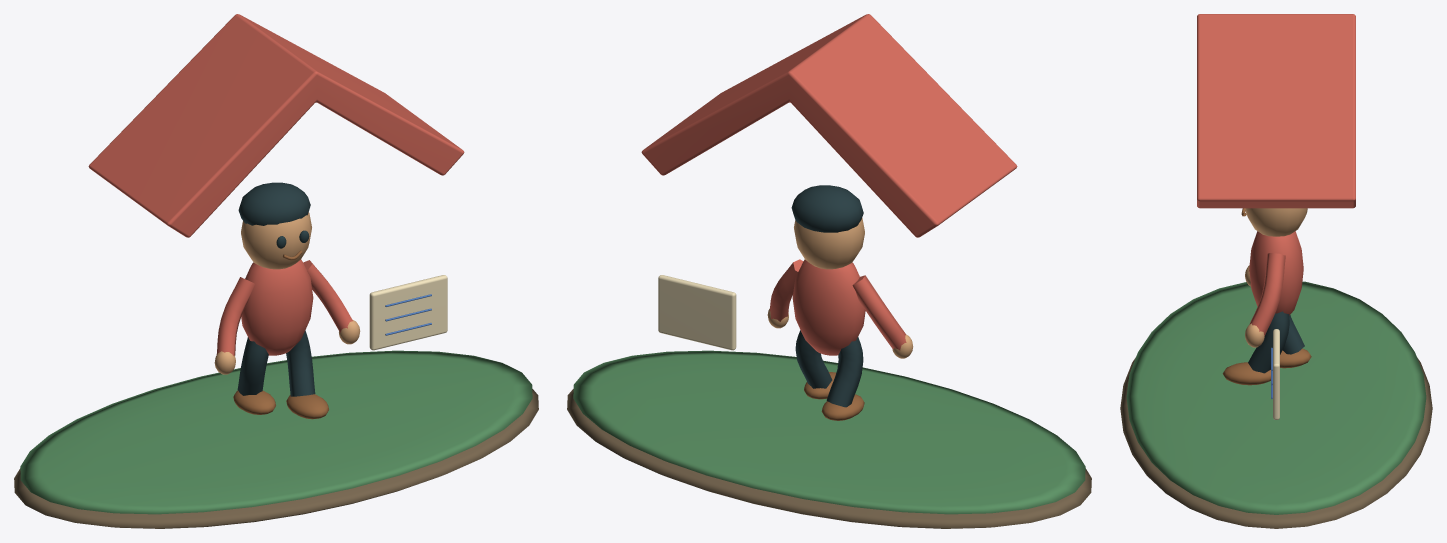
Rendered from complete-first-child-under-writing-roof.glb.
The picture shows the model from 3 angles, left to right: view 1: azimuth 30°, elevation 25°; view 2: azimuth 150°, elevation 25°; view 3: azimuth 270°, elevation 25°; orthographic projection.
Visible parts, largest first — view 1: complete-first-child-under-writing-roof_surface_01, complete-first-child-under-writing-roof_surface_02, complete-first-child-under-writing-roof_surface_00, complete-first-child-under-writing-roof_surface_04, complete-first-child-under-writing-roof_surface_06, complete-first-child-under-writing-roof_surface_03, complete-first-child-under-writing-roof_surface_05; view 2: complete-first-child-under-writing-roof_surface_01, complete-first-child-under-writing-roof_surface_02, complete-first-child-under-writing-roof_surface_00, complete-first-child-under-writing-roof_surface_04, complete-first-child-under-writing-roof_surface_06, complete-first-child-under-writing-roof_surface_03, complete-first-child-under-writing-roof_surface_05; view 3: complete-first-child-under-writing-roof_surface_01, complete-first-child-under-writing-roof_surface_02, complete-first-child-under-writing-roof_surface_00, complete-first-child-under-writing-roof_surface_03, complete-first-child-under-writing-roof_surface_04, complete-first-child-under-writing-roof_surface_05, complete-first-child-under-writing-roof_surface_06.
Boxes of the visible parts, bbox=[...] form: complete-first-child-under-writing-roof_surface_01: bbox=[20, 350, 532, 514]; complete-first-child-under-writing-roof_surface_02: bbox=[88, 14, 464, 355]; complete-first-child-under-writing-roof_surface_00: bbox=[14, 389, 538, 528]; complete-first-child-under-writing-roof_surface_04: bbox=[237, 182, 315, 396]; complete-first-child-under-writing-roof_surface_06: bbox=[369, 275, 447, 350]; complete-first-child-under-writing-roof_surface_03: bbox=[214, 212, 360, 374]; complete-first-child-under-writing-roof_surface_05: bbox=[233, 250, 328, 419]; complete-first-child-under-writing-roof_surface_01: bbox=[573, 350, 1085, 514]; complete-first-child-under-writing-roof_surface_02: bbox=[641, 14, 1017, 355]; complete-first-child-under-writing-roof_surface_00: bbox=[567, 389, 1091, 528]; complete-first-child-under-writing-roof_surface_04: bbox=[791, 185, 863, 407]; complete-first-child-under-writing-roof_surface_06: bbox=[658, 275, 736, 350]; complete-first-child-under-writing-roof_surface_03: bbox=[767, 218, 913, 358]; complete-first-child-under-writing-roof_surface_05: bbox=[804, 372, 864, 420]; complete-first-child-under-writing-roof_surface_01: bbox=[1126, 281, 1426, 514]; complete-first-child-under-writing-roof_surface_02: bbox=[1197, 14, 1355, 336]; complete-first-child-under-writing-roof_surface_00: bbox=[1120, 357, 1432, 528]; complete-first-child-under-writing-roof_surface_03: bbox=[1245, 208, 1307, 347]; complete-first-child-under-writing-roof_surface_04: bbox=[1248, 311, 1304, 373]; complete-first-child-under-writing-roof_surface_05: bbox=[1222, 208, 1311, 385]; complete-first-child-under-writing-roof_surface_06: bbox=[1273, 329, 1279, 419].
Size of the model in its own units: 4.56 by 3.61 by 2.5.
